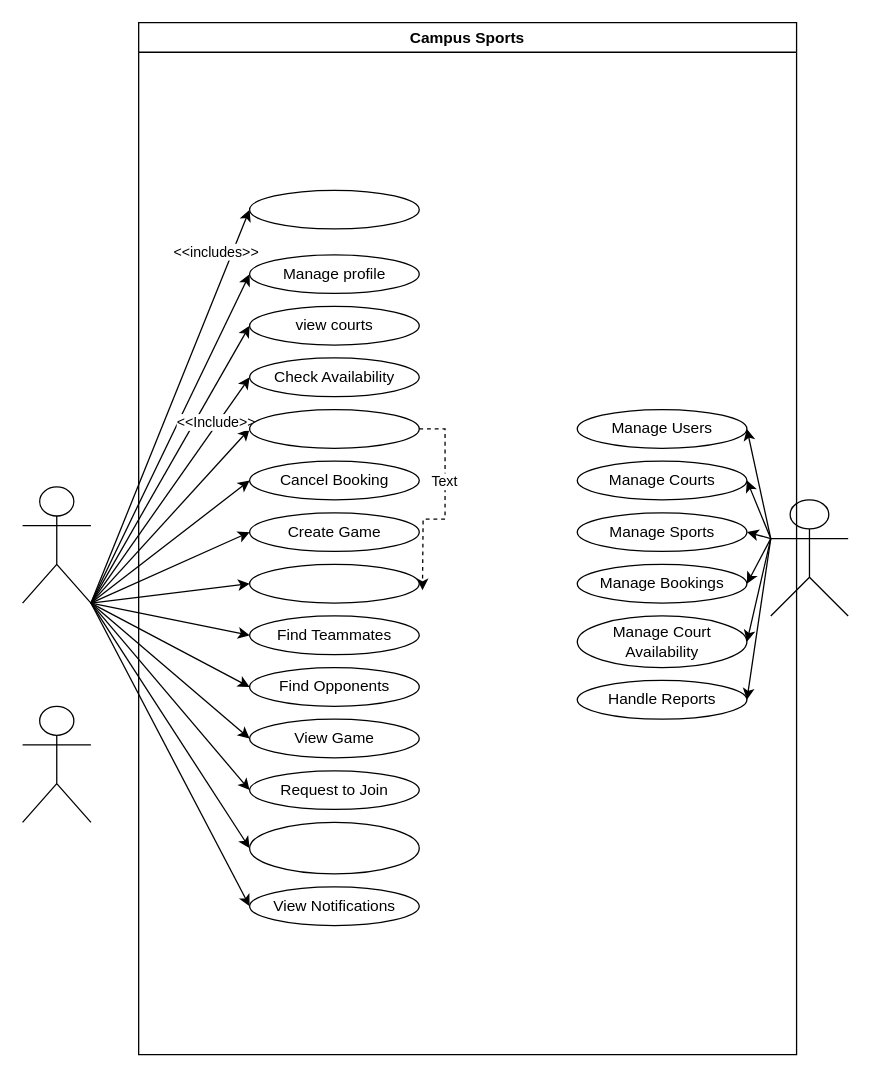
This 871x1077 diagram has some shape labels left out. The shapes that lost their labels are listed below. From the top down, each one's centre as x and y in pixels, then its label:
At point 333,209: "Register / Login".
At point 333,428: "Book Court".
At point 56,544: "Student".
At point 808,557: "Admin".
At point 333,583: "Find Players".
At point 56,763: "Faculty".
At point 333,847: "Manage Join Request".
